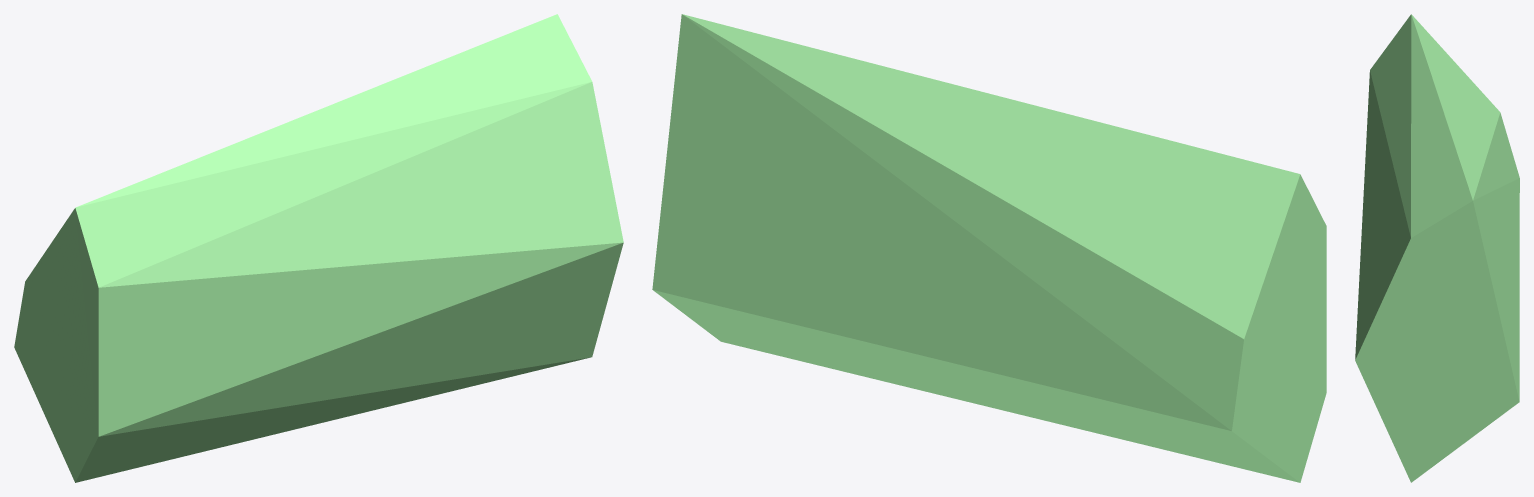
The model's file is dvkr_robot_Lp21_respondable_PSM1_coll_7.dae.
3 views of the same model, side by side, from view 1: azimuth 30°, elevation 25°; view 2: azimuth 150°, elevation 25°; view 3: azimuth 270°, elevation 25° (orthographic). The views are drawn at different scales.
Visible parts, largest first — view 1: Node_0000023514CD6E10; view 2: Node_0000023514CD6E10; view 3: Node_0000023514CD6E10.
Part boxes in pixels (box(x1,y1,x2,y2)): Node_0000023514CD6E10: box(14, 14, 623, 482); Node_0000023514CD6E10: box(652, 14, 1326, 482); Node_0000023514CD6E10: box(1355, 14, 1519, 482).
Bounding box in the file's own units: 0.025 × 0.0147 × 0.00776.
